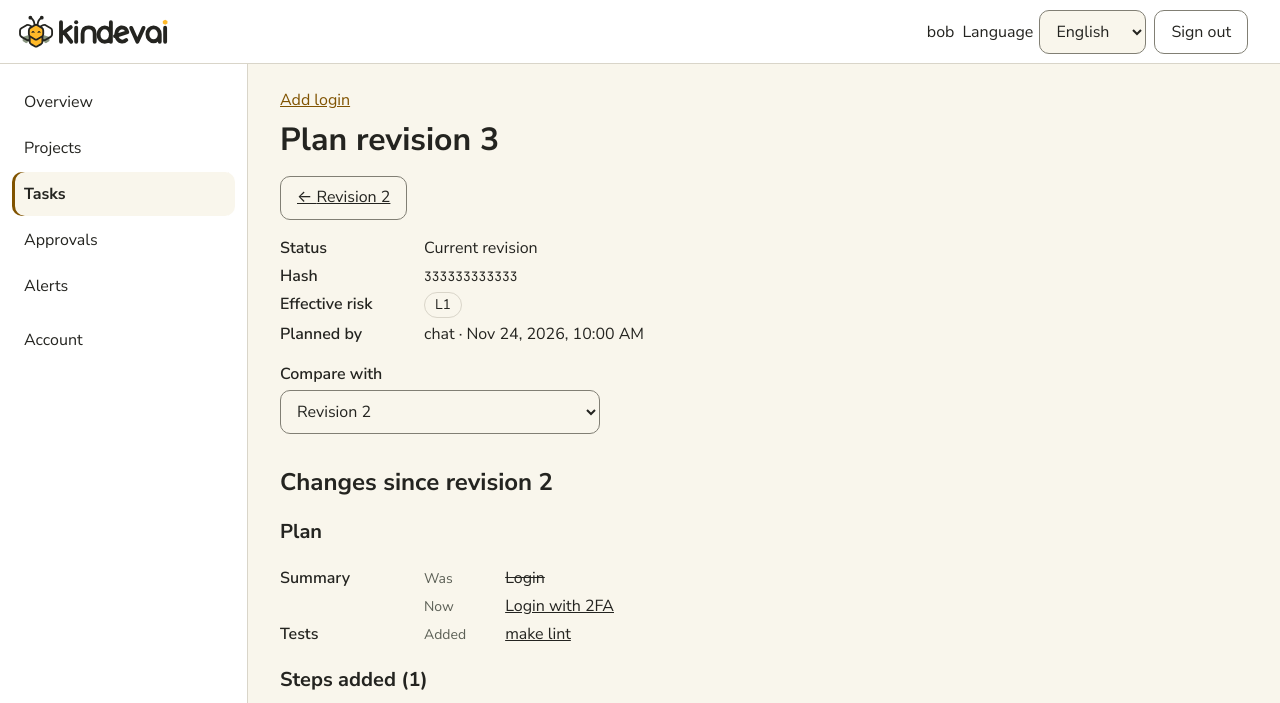
it: plan revision page › compares with any other revision
Select "Revision 1" in the dropdown labelled "Compare with" at (440, 412), box [280, 390, 600, 434]
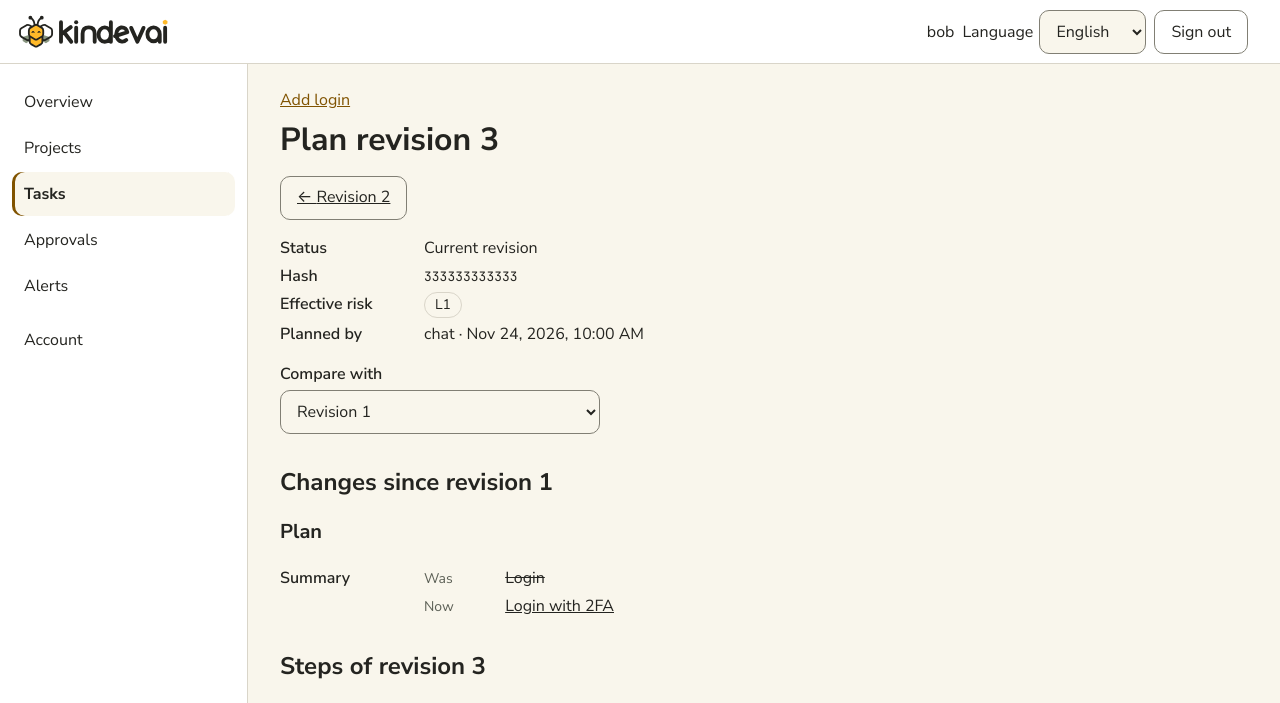
Result: the element "Changes since revision 1" is shown at [280, 466, 553, 545]
